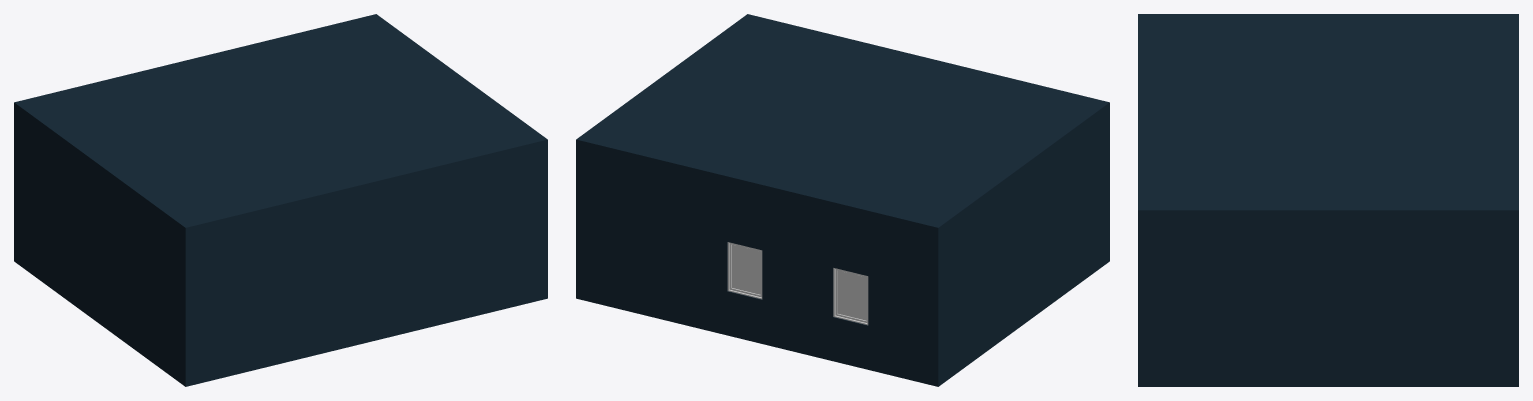
Rendered from Room_R6.fbx.
3 renders of one model, left to right at view 1: azimuth 30°, elevation 25°; view 2: azimuth 150°, elevation 25°; view 3: azimuth 270°, elevation 25°, orthographic. The views are drawn at different scales.
Parts seen in each view (by area): view 1: Wall; view 2: Wall, Window_Glass.001, Window_Glass; view 3: Wall.
Boxes of the visible parts, bbox=[...] form: Wall: bbox=[14, 14, 547, 386]; Wall: bbox=[576, 14, 1109, 386]; Window_Glass.001: bbox=[837, 270, 866, 320]; Window_Glass: bbox=[732, 244, 760, 294]; Wall: bbox=[1138, 14, 1518, 386].
Bounding box in the file's own units: 713 × 299 × 585.
